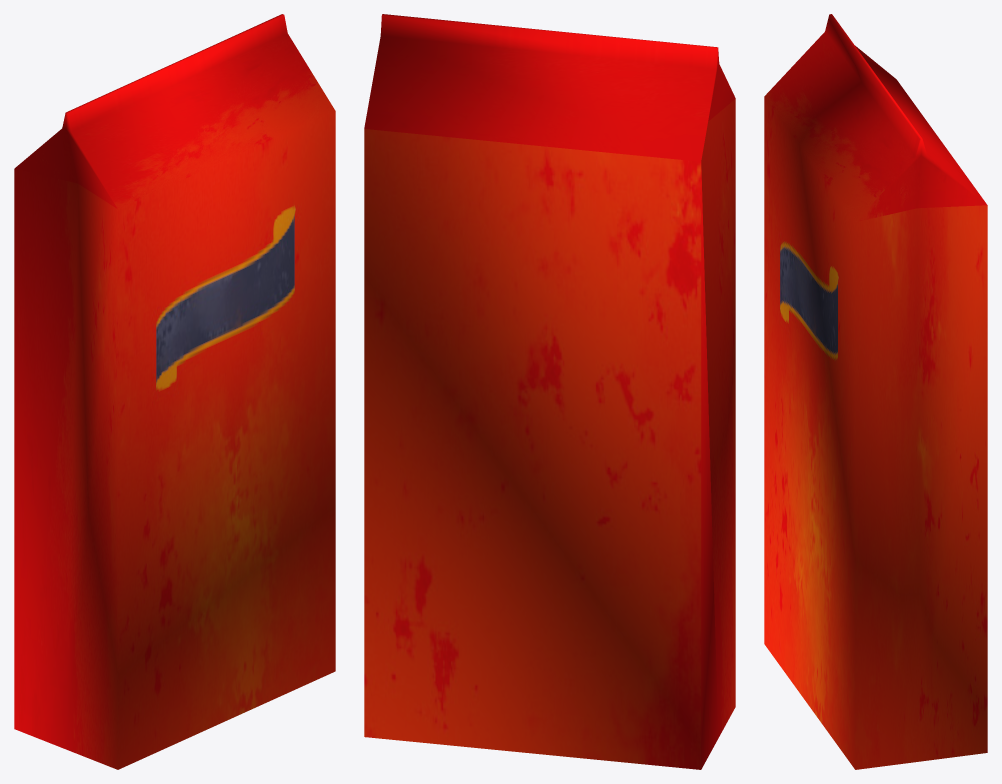
File: 01-cafemoulu-model.glb
3 renders of one model, left to right at view 1: azimuth 30°, elevation 25°; view 2: azimuth 150°, elevation 25°; view 3: azimuth 270°, elevation 25°, orthographic. The views are drawn at different scales.
Parts seen in each view (by area): view 1: 01-cafemoulu-model; view 2: 01-cafemoulu-model; view 3: 01-cafemoulu-model.
Boxes of the visible parts, x1,y1,x2,y2 form: 01-cafemoulu-model: (14, 14, 335, 769); 01-cafemoulu-model: (364, 14, 735, 769); 01-cafemoulu-model: (764, 14, 987, 769).
Bounding box in the file's own units: 1.78 × 3.6 × 1.17.
Materials: 1 (1 with a texture image).
